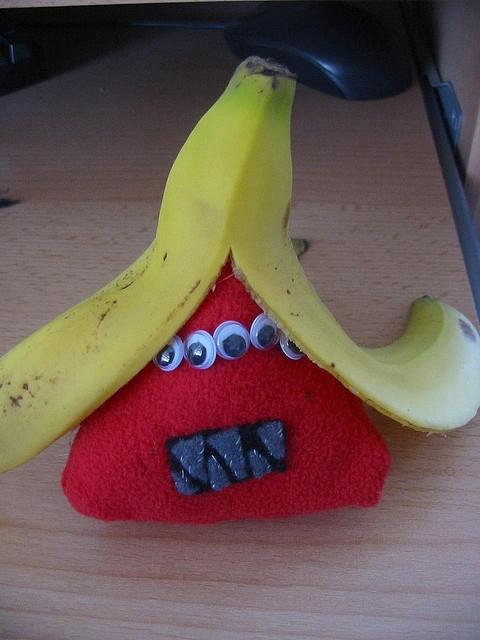banana: (3, 56, 478, 476)
